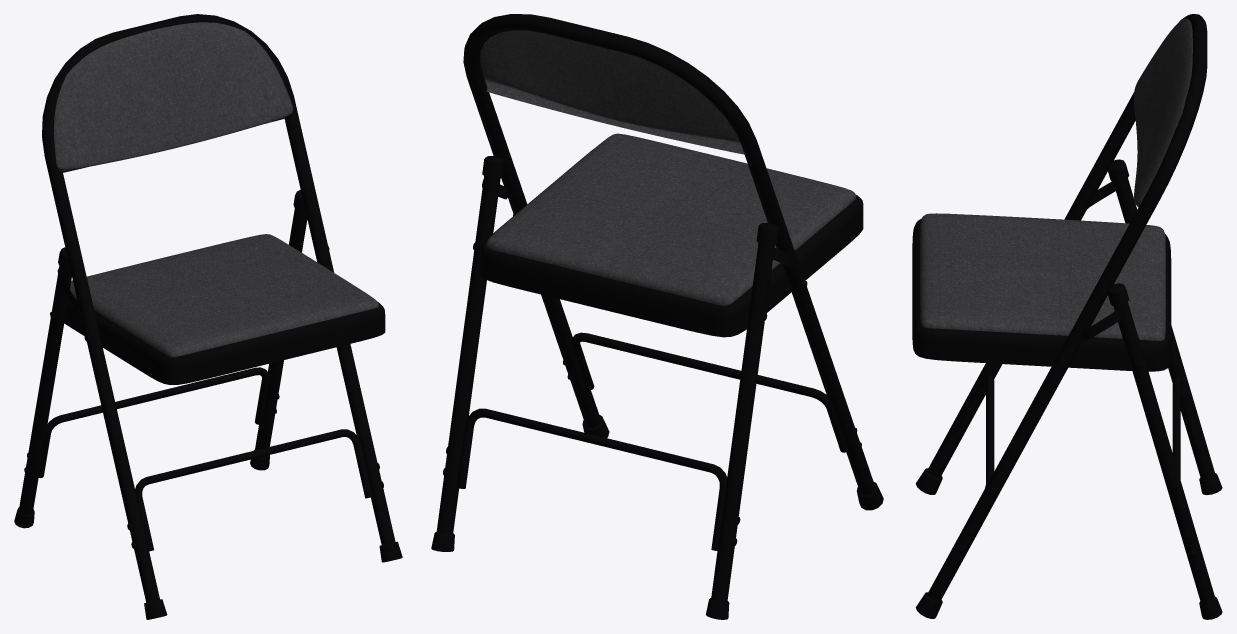
The model's file is chair_03_02.001.fbx.
The picture shows the model from 3 angles, left to right: view 1: azimuth 30°, elevation 25°; view 2: azimuth 150°, elevation 25°; view 3: azimuth 270°, elevation 25°; orthographic projection. The views are drawn at different scales.
Visible parts, largest first — view 1: chair_03_02.001; view 2: chair_03_02.001; view 3: chair_03_02.001.
Part boxes in pixels (x1,y1,x2,y2): chair_03_02.001: (14, 14, 402, 619); chair_03_02.001: (431, 14, 883, 619); chair_03_02.001: (912, 14, 1222, 619).
Bounding box in the file's own units: 45.16 × 80.7 × 44.26.
1 material, 1 textured.
